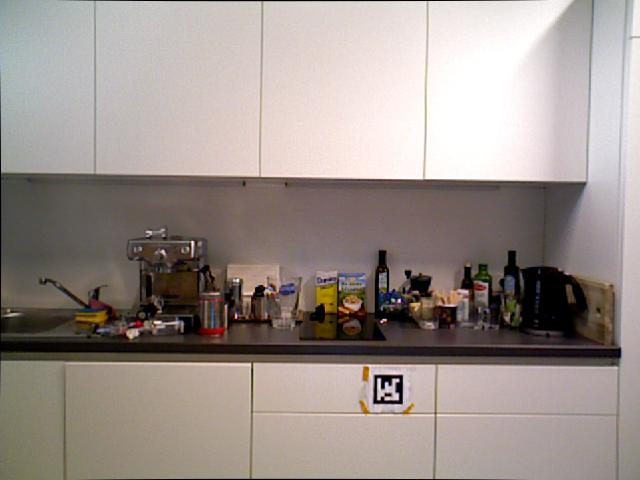bench: (502, 249, 521, 327), (472, 262, 492, 326), (374, 249, 389, 318), (460, 262, 474, 325)
bird: (342, 292, 365, 313)
couch: (0, 306, 84, 335)
handbag: (264, 270, 303, 336), (413, 297, 440, 332), (464, 299, 491, 332), (497, 293, 522, 328), (431, 300, 460, 328)
